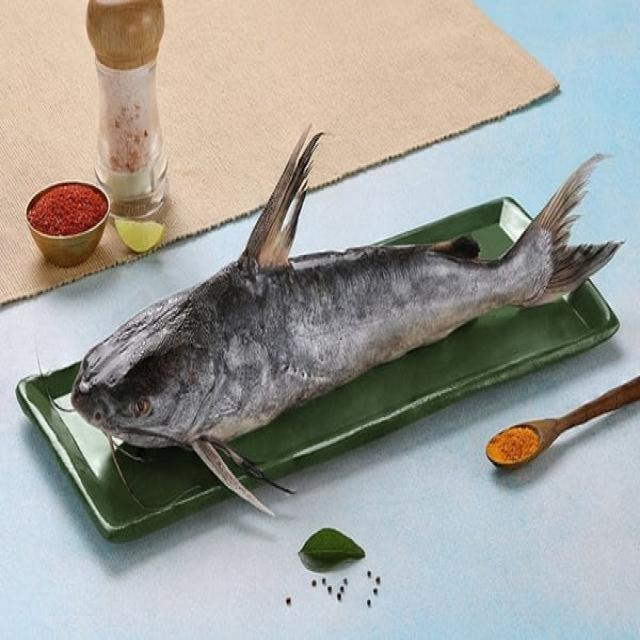Catfish: (11, 112, 634, 526)
lemon: (111, 204, 168, 260)
